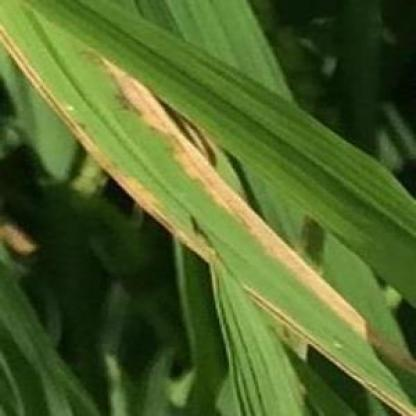Blight: (90, 47, 381, 349), (4, 18, 216, 270)
